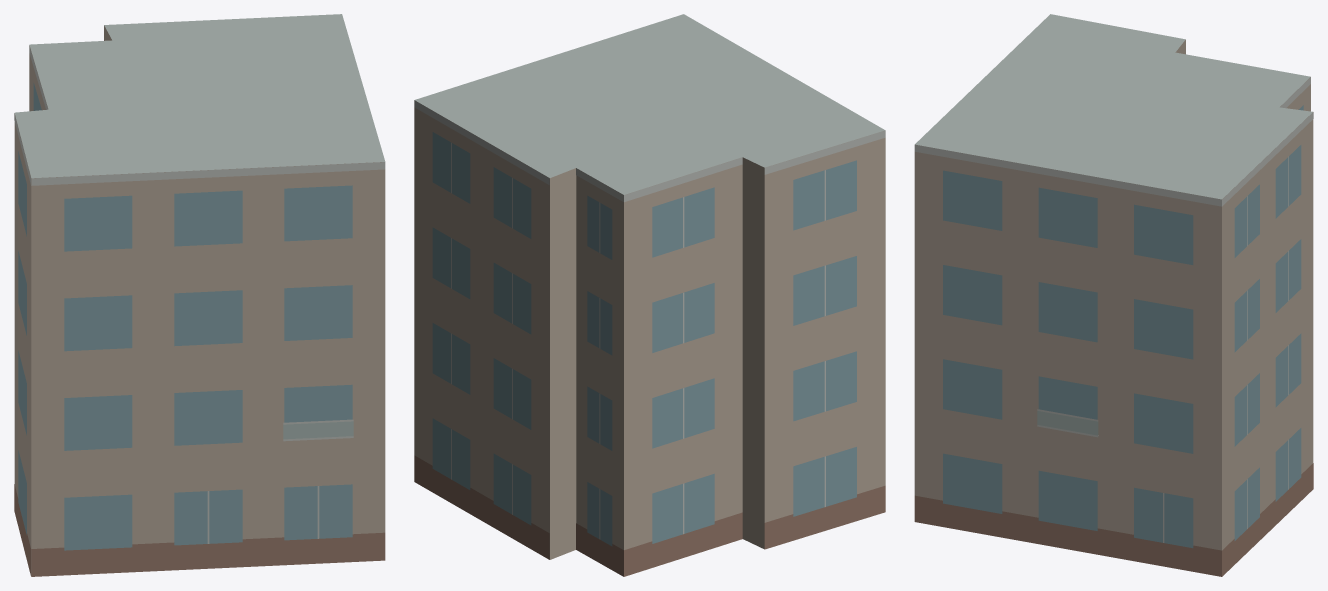
The model's file is survey-upis-32566645.glb.
3 renders of one model, left to right at view 1: azimuth 30°, elevation 25°; view 2: azimuth 150°, elevation 25°; view 3: azimuth 270°, elevation 25°, orthographic. The views are drawn at different scales.
Visible parts, largest first — view 1: survey-upis-32566645.tmp; view 2: survey-upis-32566645.tmp; view 3: survey-upis-32566645.tmp.
Part boxes in pixels (x1,y1,x2,y2): survey-upis-32566645.tmp: [14, 14, 385, 576]; survey-upis-32566645.tmp: [414, 14, 885, 576]; survey-upis-32566645.tmp: [914, 14, 1313, 576].
Bounding box in the file's own units: 13.51 × 12.81 × 12.28.
